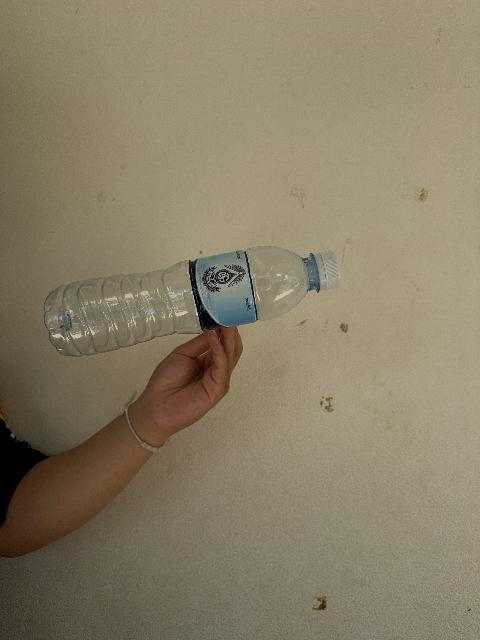bottle: (44, 247, 339, 355)
